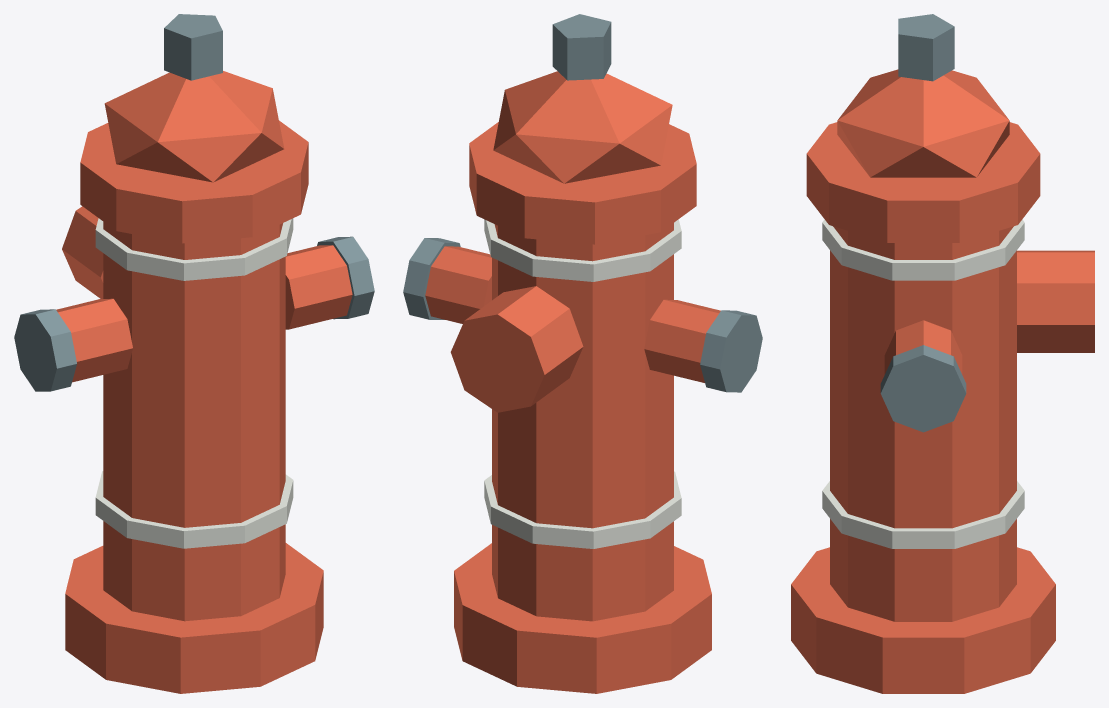
File: sm_env_prop_fire_hydrant.glb
3 views of the same model, side by side, from view 1: azimuth 30°, elevation 25°; view 2: azimuth 150°, elevation 25°; view 3: azimuth 270°, elevation 25° (orthographic).
Visible parts, largest first — view 1: HydrantBody, HydrantFlange, HydrantCollar, HydrantBonnet, HydrantRing, HydrantNozzle.001, HydrantRing.001, HydrantNozzle, NozzleCap, HydrantNut, HydrantPumper, NozzleCap.001; view 2: HydrantBody, HydrantFlange, HydrantCollar, HydrantBonnet, HydrantPumper, HydrantRing, HydrantRing.001, HydrantNozzle, HydrantNozzle.001, NozzleCap, HydrantNut, NozzleCap.001; view 3: HydrantBody, HydrantFlange, HydrantCollar, HydrantBonnet, HydrantPumper, NozzleCap.001, HydrantRing, HydrantRing.001, HydrantNut, HydrantNozzle.001.
Boxes of the visible parts, <box> form: HydrantBody: <box>103,222,285,621</box>; HydrantFlange: <box>65,543,323,693</box>; HydrantCollar: <box>80,120,308,243</box>; HydrantBonnet: <box>104,71,284,182</box>; HydrantRing: <box>95,471,293,548</box>; HydrantNozzle.001: <box>285,245,352,329</box>; HydrantRing.001: <box>95,218,293,280</box>; HydrantNozzle: <box>56,298,132,382</box>; NozzleCap: <box>14,309,76,391</box>; HydrantNut: <box>164,14,222,80</box>; HydrantPumper: <box>62,206,103,298</box>; NozzleCap.001: <box>317,236,374,319</box>; HydrantBody: <box>492,223,673,621</box>; HydrantFlange: <box>454,543,711,693</box>; HydrantCollar: <box>469,122,696,244</box>; HydrantBonnet: <box>493,71,672,183</box>; HydrantPumper: <box>450,286,583,412</box>; HydrantRing: <box>484,471,681,548</box>; HydrantRing.001: <box>484,219,681,281</box>; HydrantNozzle: <box>644,299,720,382</box>; HydrantNozzle.001: <box>425,246,491,323</box>; NozzleCap: <box>700,310,762,392</box>; HydrantNut: <box>552,14,611,80</box>; NozzleCap.001: <box>403,238,460,319</box>; HydrantBody: <box>830,226,1016,621</box>; HydrantFlange: <box>791,547,1055,693</box>; HydrantCollar: <box>806,122,1040,242</box>; HydrantBonnet: <box>837,69,1009,177</box>; HydrantPumper: <box>1017,250,1094,352</box>; NozzleCap.001: <box>880,345,966,432</box>; HydrantRing: <box>822,481,1024,548</box>; HydrantRing.001: <box>822,219,1024,280</box>; HydrantNut: <box>898,14,954,81</box>; HydrantNozzle.001: <box>884,320,962,374</box>.
Bounding box in the file's own units: 0.472 × 0.87 × 0.39.
